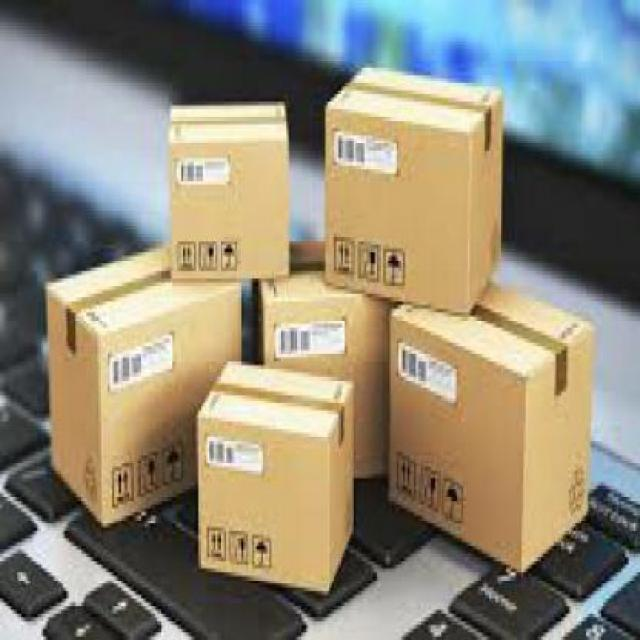box: (383, 278, 591, 580), (41, 245, 250, 528), (321, 64, 504, 321), (196, 354, 359, 596), (246, 264, 420, 482), (161, 106, 297, 280)
